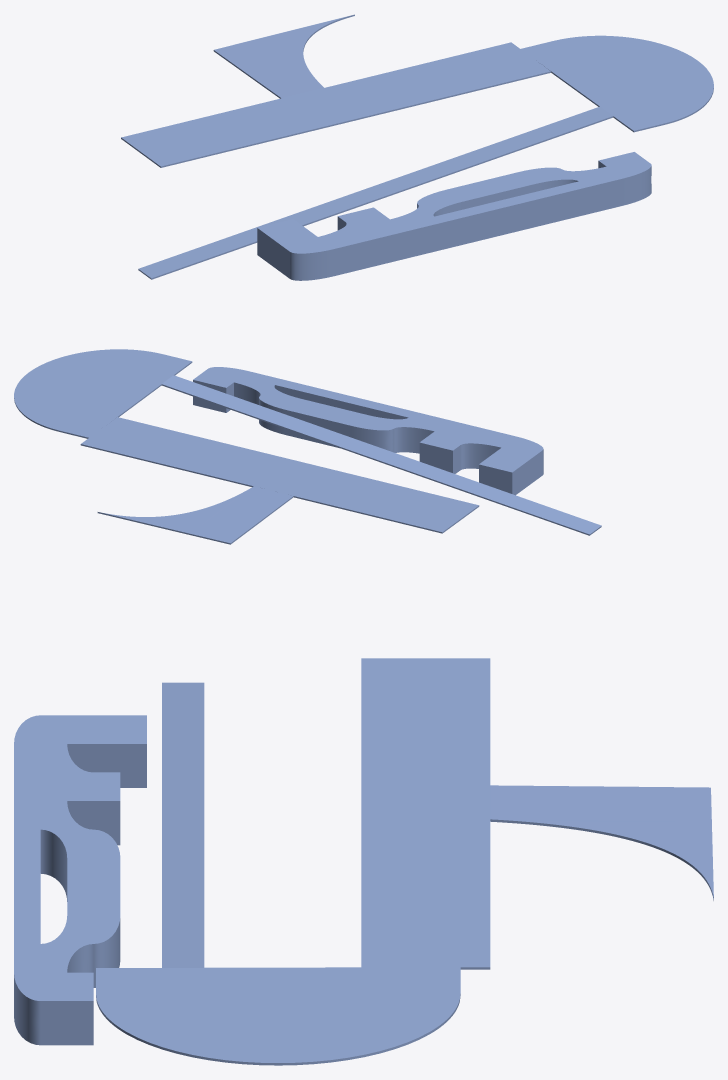
File: public.gltf
3 renders of one model, top to bottom at view 1: azimuth 30°, elevation 25°; view 2: azimuth 150°, elevation 25°; view 3: azimuth 270°, elevation 25°, orthographic. The views are drawn at different scales.
Size of the model in its own units: 145 by 10.49 by 80.2.
